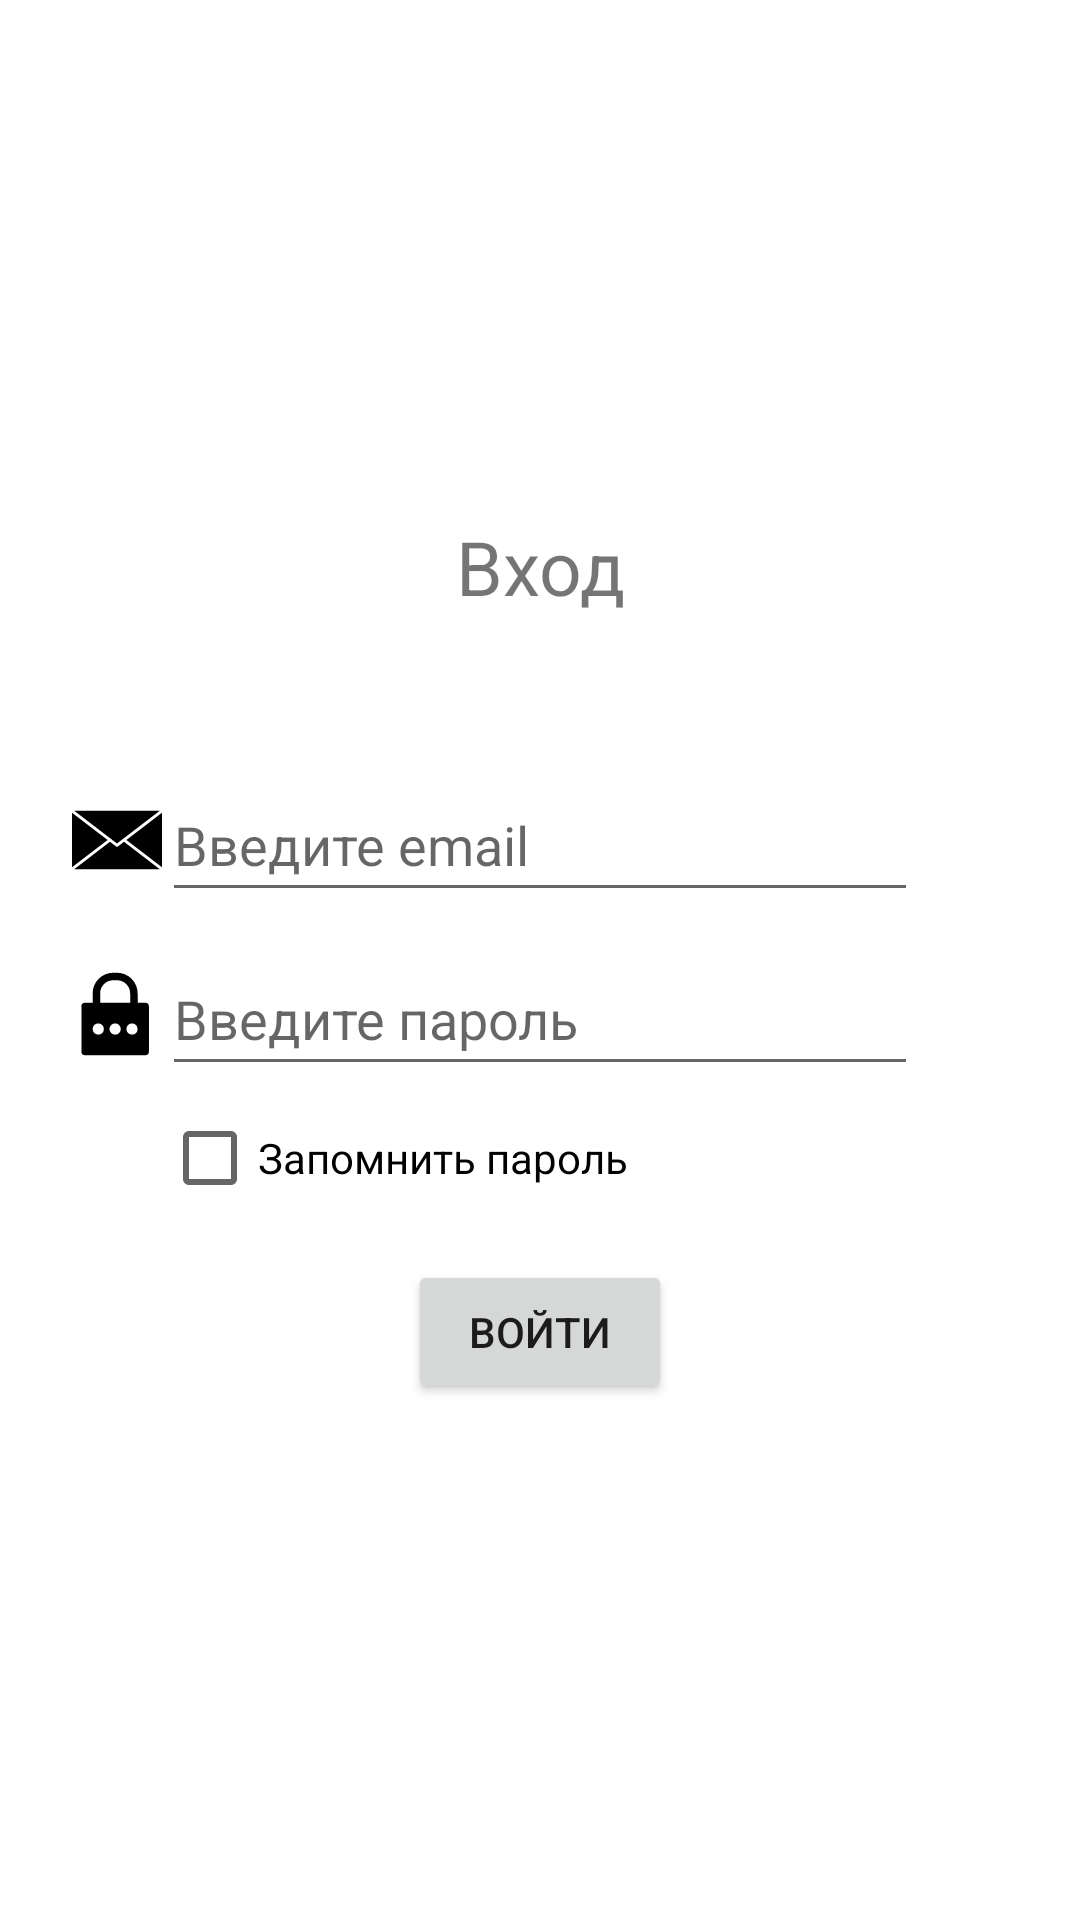

Icons on this 1080px×1920px Android screen, each with the point to tap as [x,y]:
password: [115,1014]
